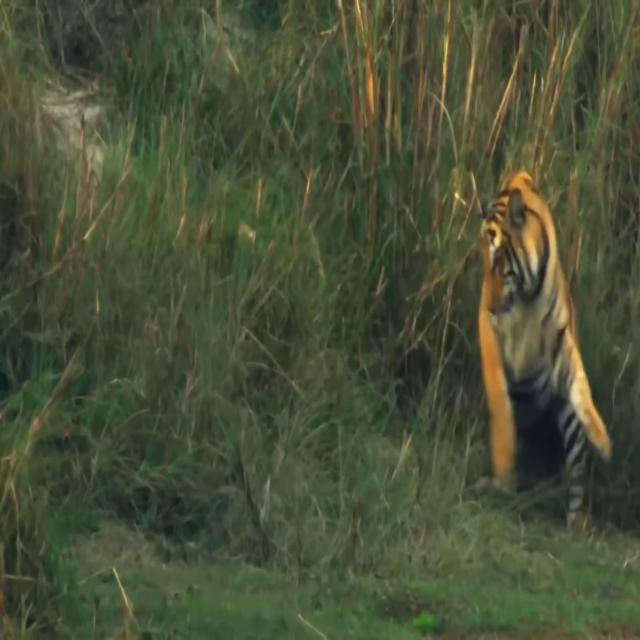tiger: (477, 167, 611, 529)
